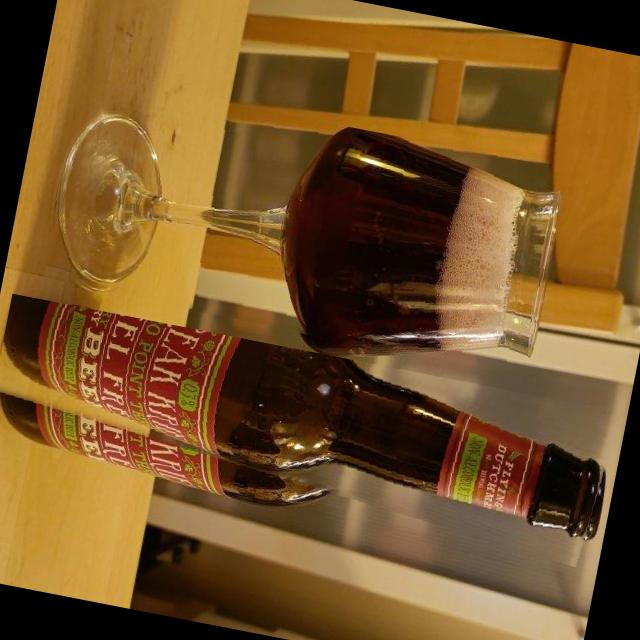Glass: (0, 293, 619, 569), (37, 75, 563, 382)
